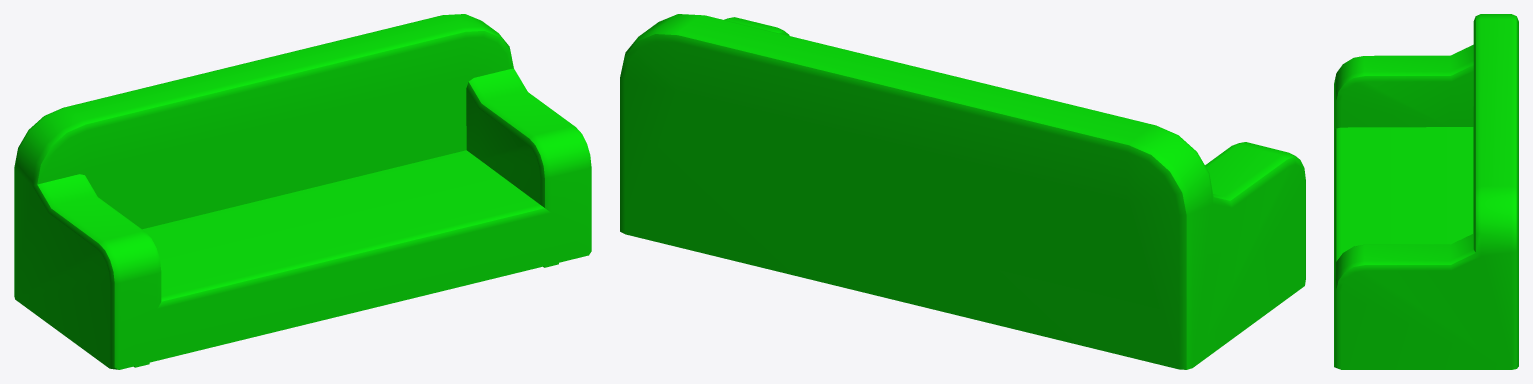
The model's file is Sillon01A.fbx.
3 renders of one model, left to right at view 1: azimuth 30°, elevation 25°; view 2: azimuth 150°, elevation 25°; view 3: azimuth 270°, elevation 25°, orthographic. The views are drawn at different scales.
Visible parts, largest first — view 1: polySurface11; view 2: polySurface11; view 3: polySurface11.
Part boxes in pixels (x1,y1,x2,y2): polySurface11: (14,14,591,369); polySurface11: (620,14,1305,369); polySurface11: (1334,14,1518,369).
Bounding box in the file's own units: 3.02 × 1.15 × 1.12.
